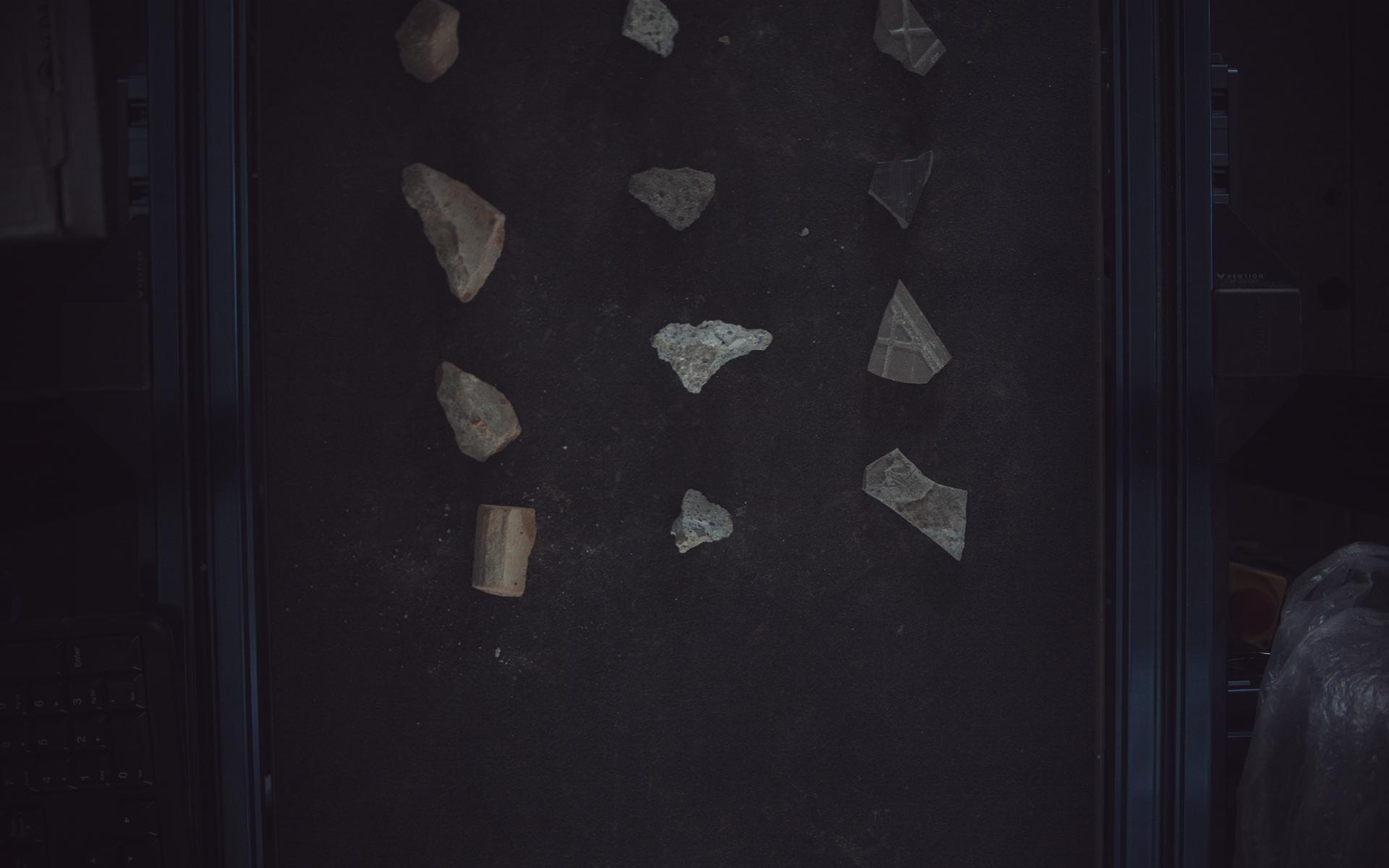brick: (402, 162, 505, 302), (436, 362, 522, 461), (472, 505, 535, 597), (395, 1, 460, 81)
concrete: (653, 320, 774, 393), (629, 166, 715, 230), (672, 489, 734, 553), (624, 1, 680, 56)
tile: (865, 449, 969, 561), (870, 281, 953, 384), (875, 1, 948, 74), (870, 150, 935, 229)
